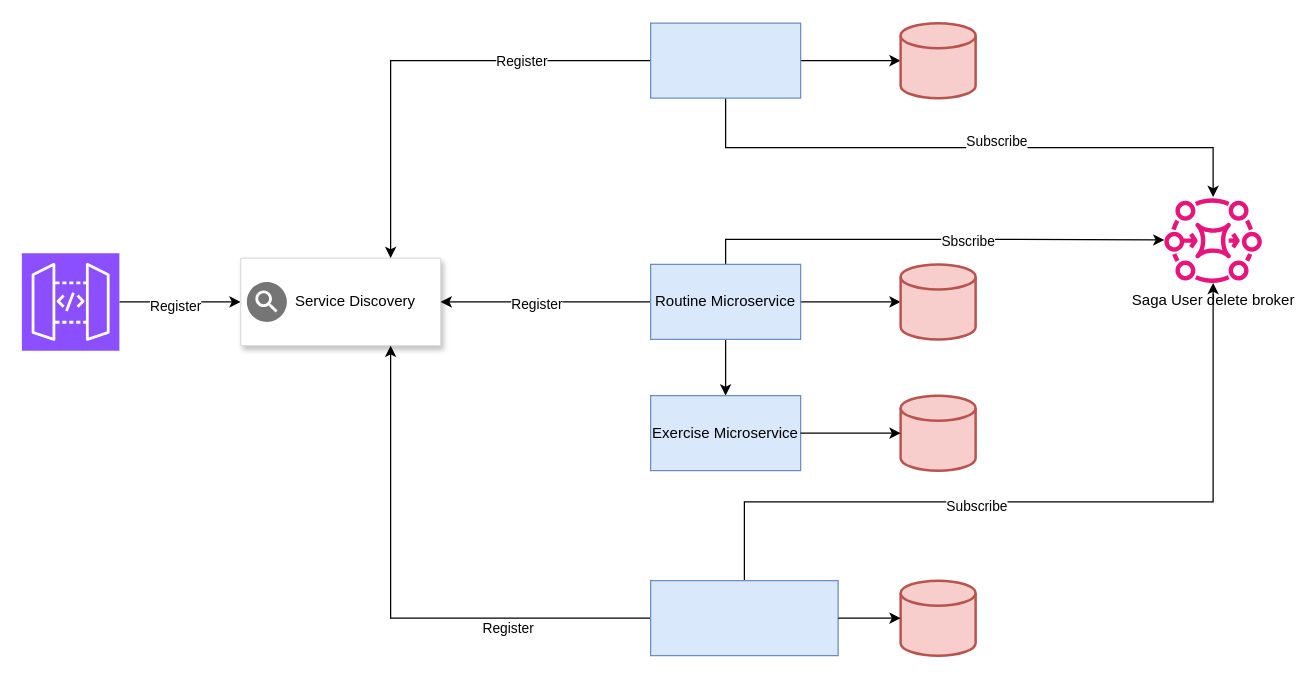
The diagram is 1316 pixels wide and 678 high, and some of its shapes have lost their labels. The centre of each missing label's shape, as x and y in pixels:
"Measurement Microservice" belongs at pixel 743 617.
"User Microservice" belongs at pixel 725 60.
